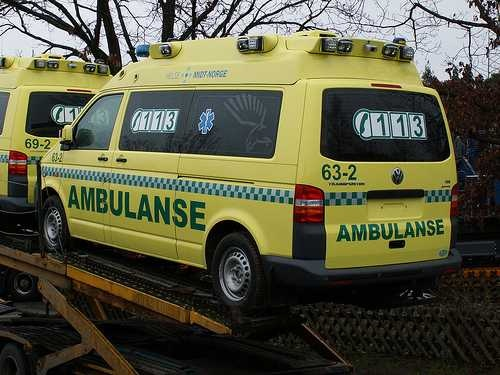Ambulance: (37, 41, 458, 294)
